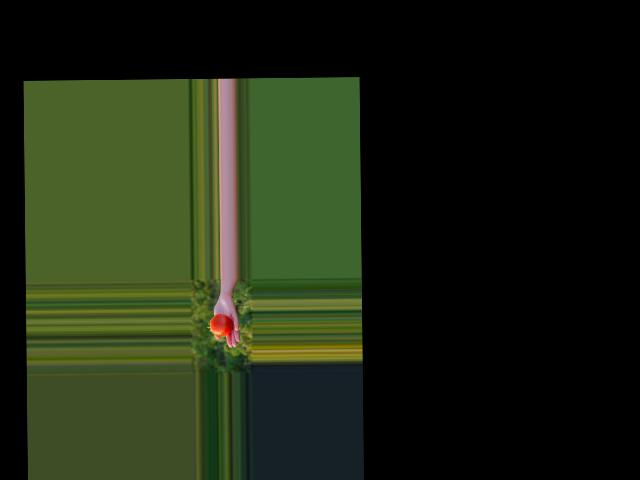tomato: (210, 314, 234, 335)
